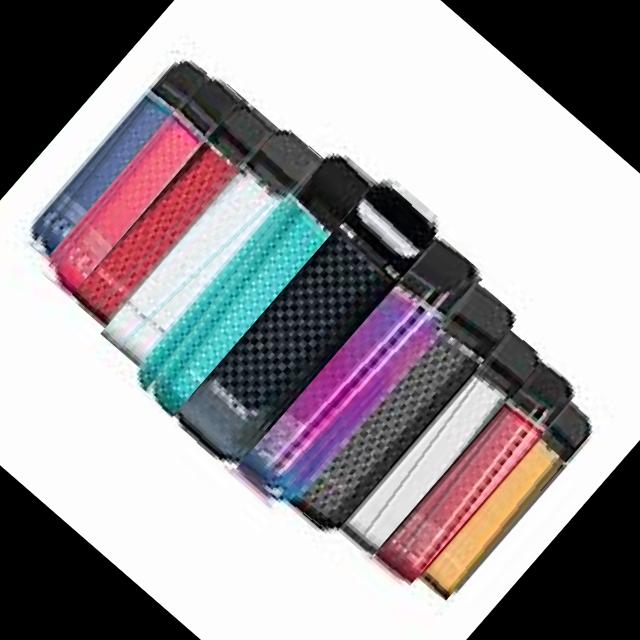Hazard: (170, 172, 448, 473), (235, 235, 486, 510), (128, 144, 376, 418), (288, 284, 520, 538), (100, 122, 322, 368), (38, 70, 244, 298), (339, 330, 545, 558), (374, 361, 578, 587), (72, 99, 276, 324), (22, 52, 207, 258), (420, 396, 604, 601)
